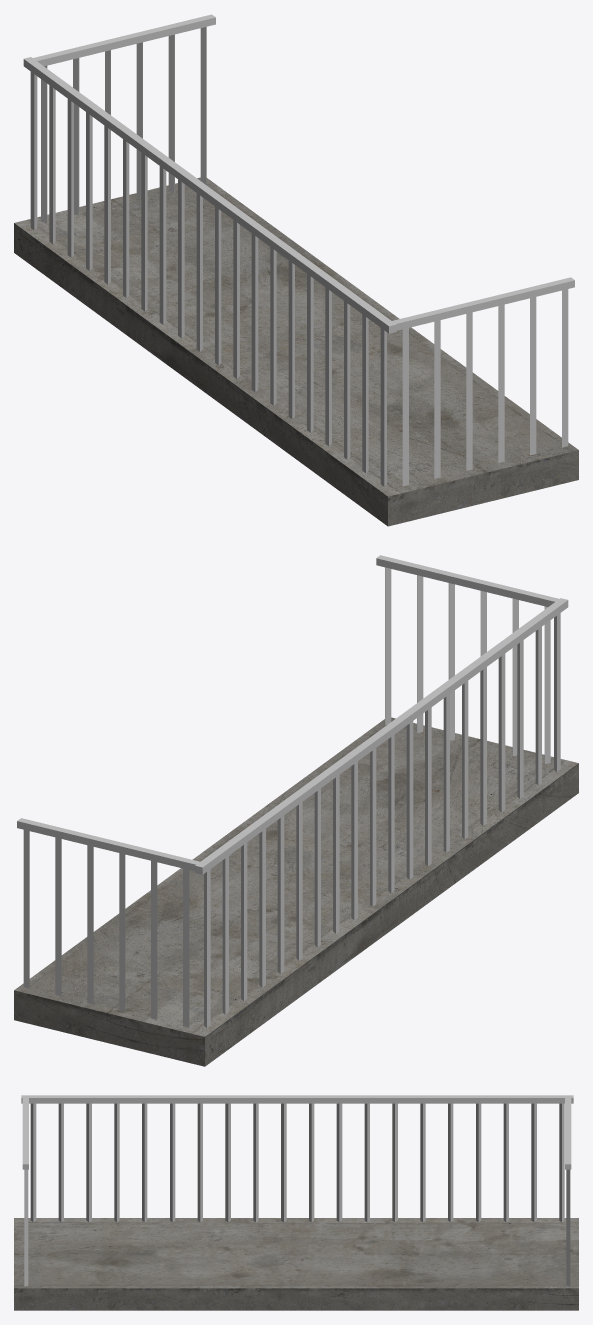
The model's file is CP_Balcony_01.fbx.
3 views of the same model, one above another, from view 1: azimuth 30°, elevation 25°; view 2: azimuth 150°, elevation 25°; view 3: azimuth 270°, elevation 25° (orthographic). The views are drawn at different scales.
Parts seen in each view (by area): view 1: CP_Balcony_01_LOD0; view 2: CP_Balcony_01_LOD0; view 3: CP_Balcony_01_LOD0.
Part boxes in pixels (x1,y1,x2,y2): CP_Balcony_01_LOD0: (14,14,578,526); CP_Balcony_01_LOD0: (14,555,578,1066); CP_Balcony_01_LOD0: (14,1095,578,1310).
Size of what is drawn, in the model's own units: 101 by 97.65 by 339.
